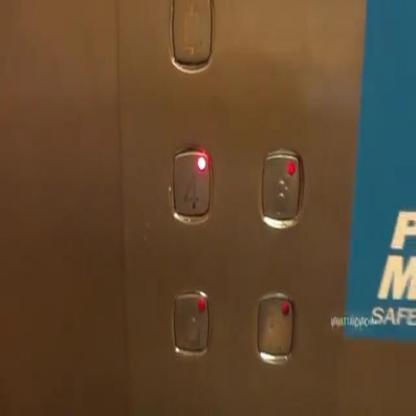4: (169, 141, 213, 227)
6: (255, 140, 306, 232)
alarm: (165, 0, 215, 76)
blur: (252, 284, 300, 368), (167, 282, 212, 359)
